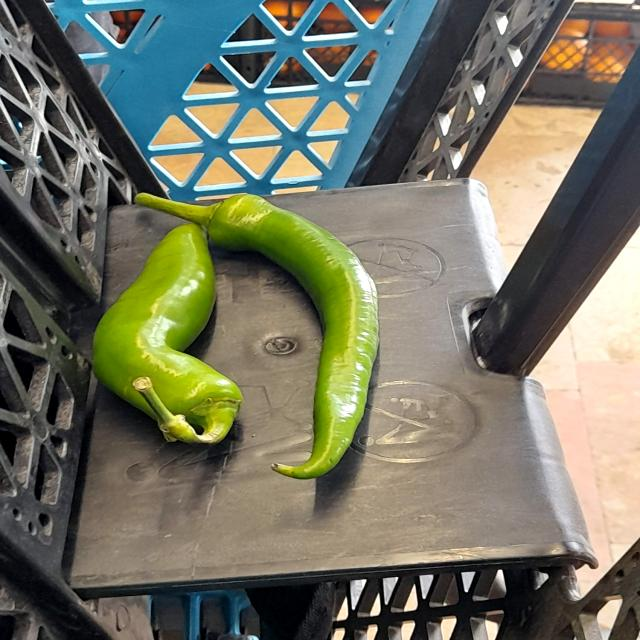green pepper: (186, 179, 387, 483), (85, 210, 234, 451)
